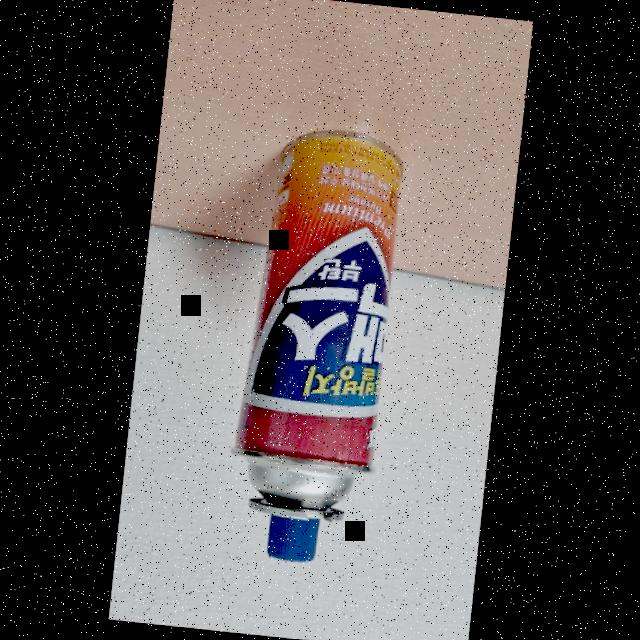chemical_spray_can: (190, 94, 422, 576)
